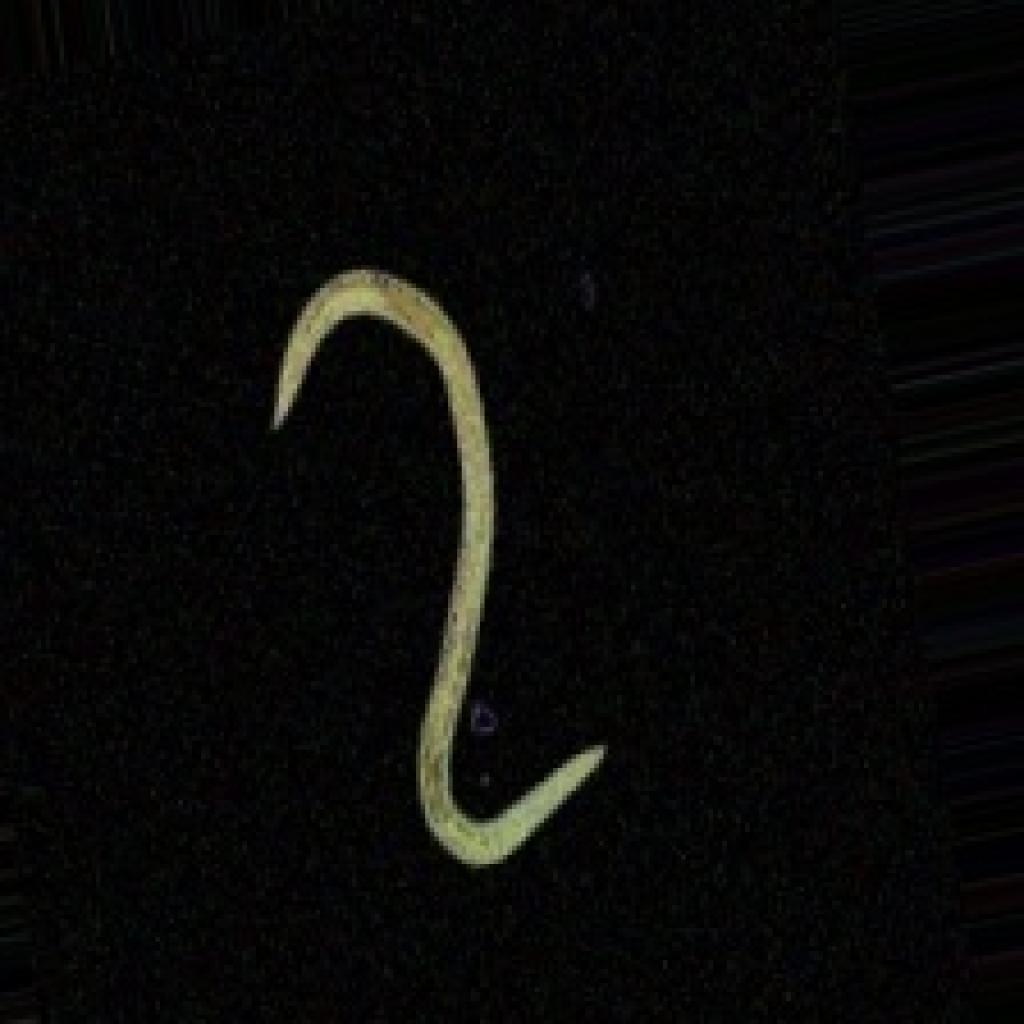Nematode: (0, 0, 1019, 1019), (256, 260, 613, 868)
